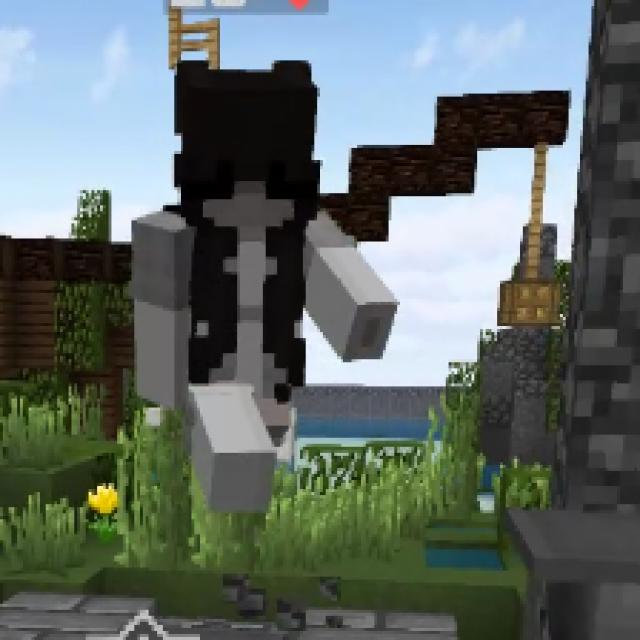Player: (132, 61, 400, 514)
